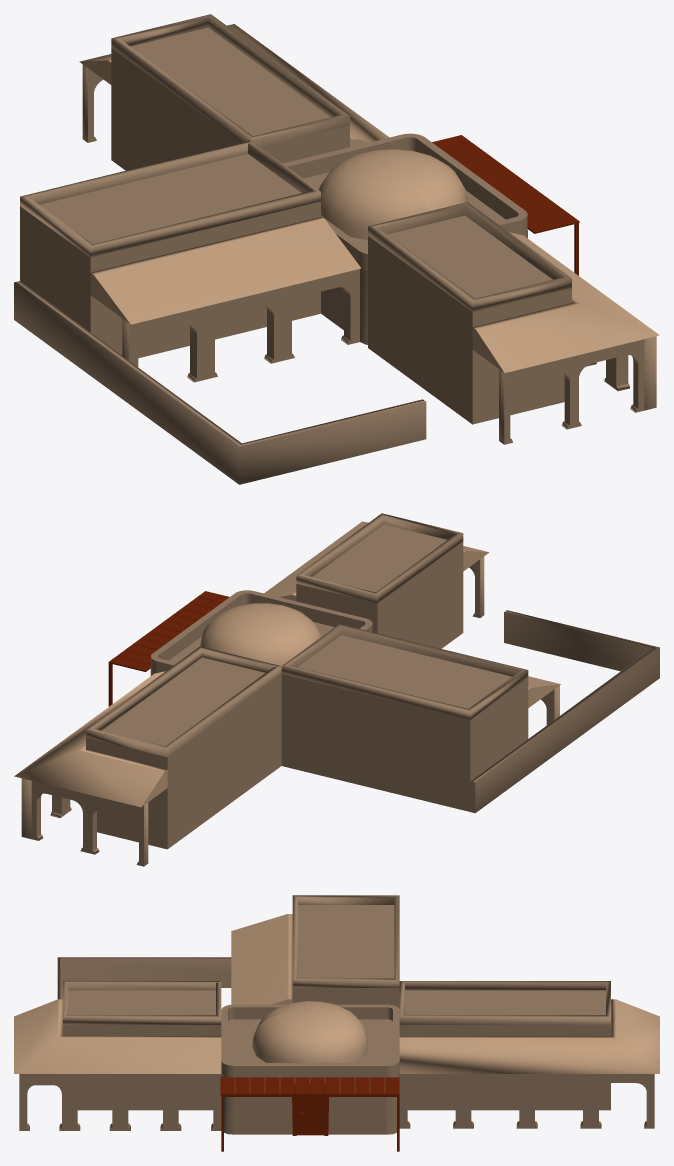
The model's file is Desert Houses.glb.
3 views of the same model, one above another, from view 1: azimuth 30°, elevation 25°; view 2: azimuth 150°, elevation 25°; view 3: azimuth 270°, elevation 25° (orthographic). The views are drawn at different scales.
Visible parts, largest first — view 1: Cube (×4), Extrusion Spline (×10), Spline (×4), Cylinder, Spline 2D; view 2: Cube (×3), Spline (×4), Extrusion Spline (×7), Cylinder, Spline 2D; view 3: Cube (×5), Extrusion Spline (×11), Spline (×4), Cylinder, Spline 2D (×2).
Part boxes in pixels (x1=…): Cube (×4): x1=20, y1=27, x2=571, y2=424; Extrusion Spline (×10): x1=79, y1=24, x2=659, y2=444; Spline (×4): x1=14, y1=14, x2=571, y2=484; Cylinder: x1=319, y1=149, x2=468, y2=239; Spline 2D: x1=283, y1=133, x2=527, y2=269; Cube (×3): x1=86, y1=524, x2=528, y2=849; Spline (×4): x1=86, y1=513, x2=659, y2=813; Extrusion Spline (×7): x1=14, y1=521, x2=560, y2=866; Cylinder: x1=200, y1=603, x2=320, y2=665; Spline 2D: x1=151, y1=590, x2=372, y2=673; Cube (×5): x1=63, y1=905, x2=610, y2=1135; Extrusion Spline (×11): x1=14, y1=914, x2=659, y2=1130; Spline (×4): x1=57, y1=895, x2=610, y2=1024; Cylinder: x1=252, y1=1001, x2=367, y2=1062; Spline 2D (×2): x1=221, y1=1004, x2=399, y2=1151.
Size of the model in its own units: 14.85 by 3.88 by 24.45.
